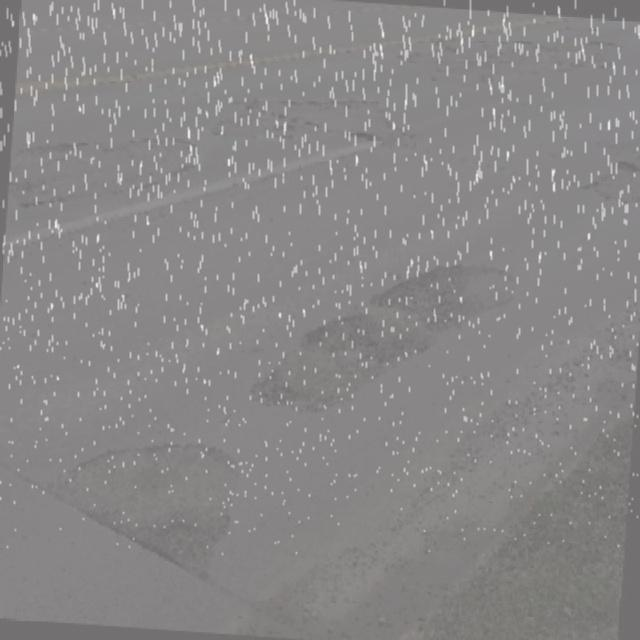Pothole: (234, 247, 516, 422), (34, 432, 247, 594), (227, 94, 382, 154), (570, 160, 638, 206)
